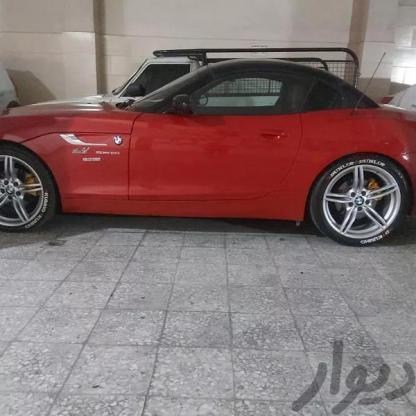Car: (0, 53, 416, 255), (4, 47, 382, 139)
